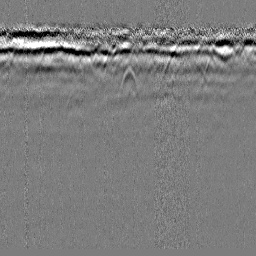cavity: (118, 63, 139, 99)
